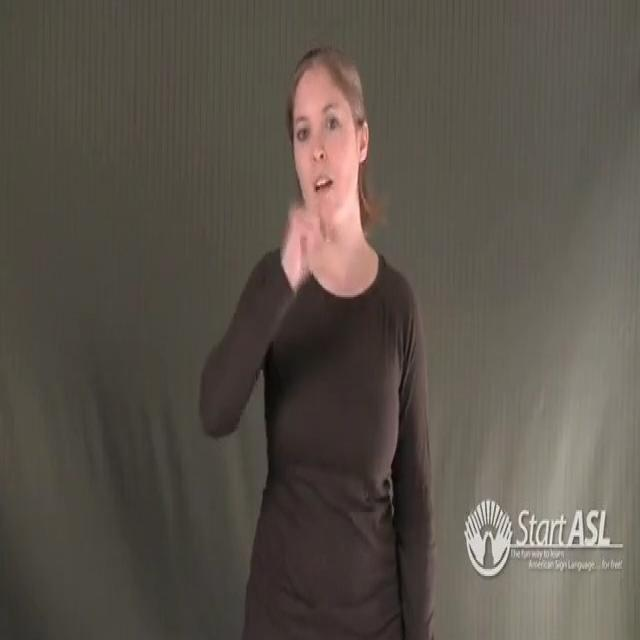icecream: (269, 190, 334, 316)
